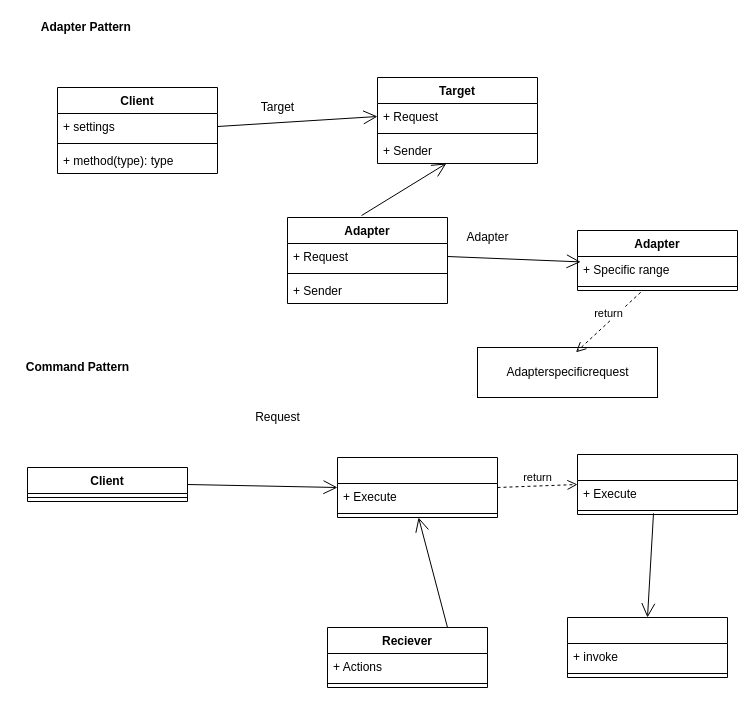
This 755x705 diagram has some shape labels left out. Here are the shapes that lost their labels. From the top down, the box of each, then its label:
(336, 456, 498, 518): Command
(576, 454, 738, 514): Commandinterface
(566, 616, 728, 678): Invoker
